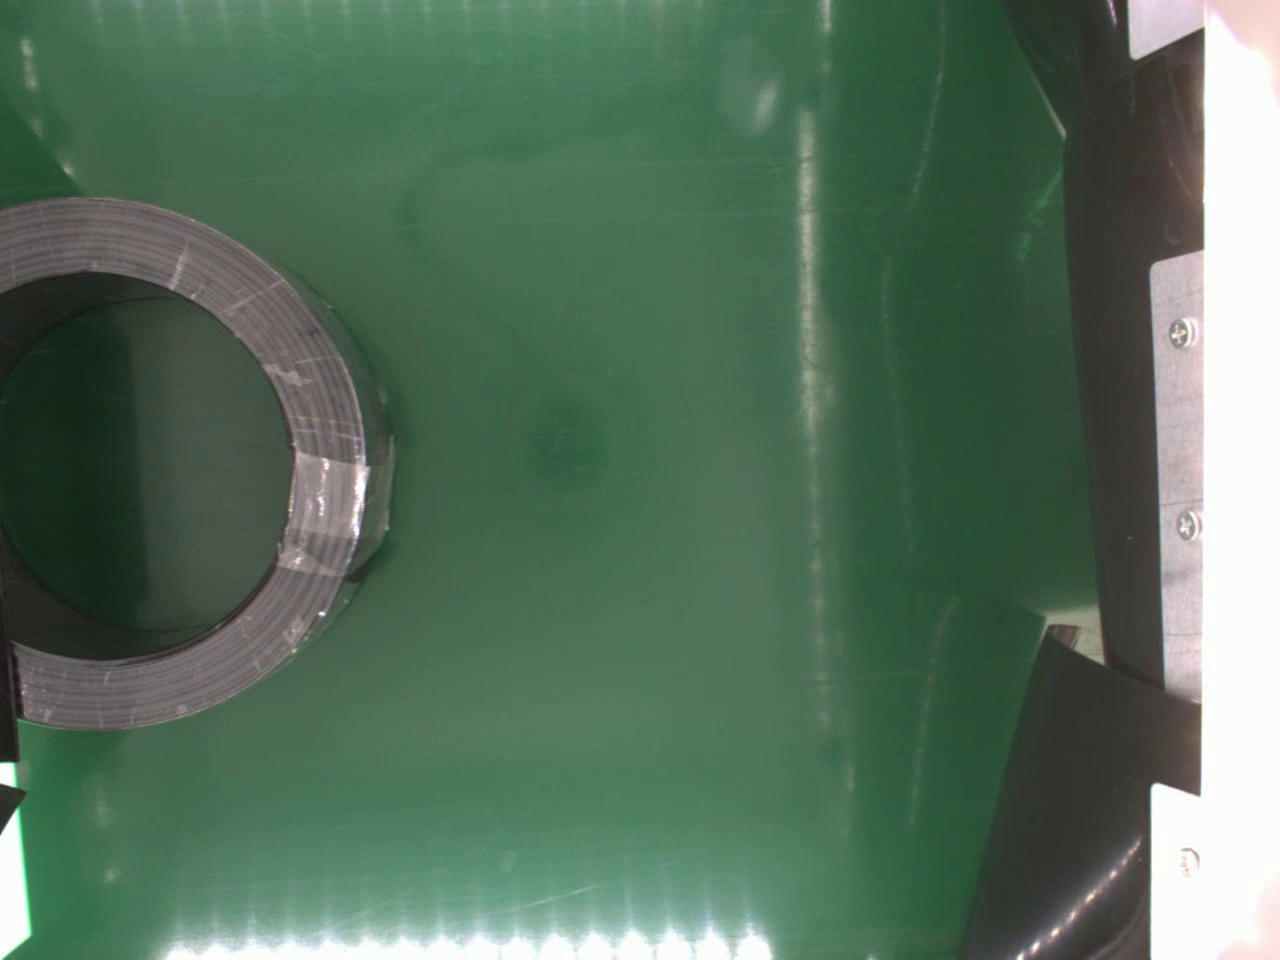black: (0, 190, 395, 732)
